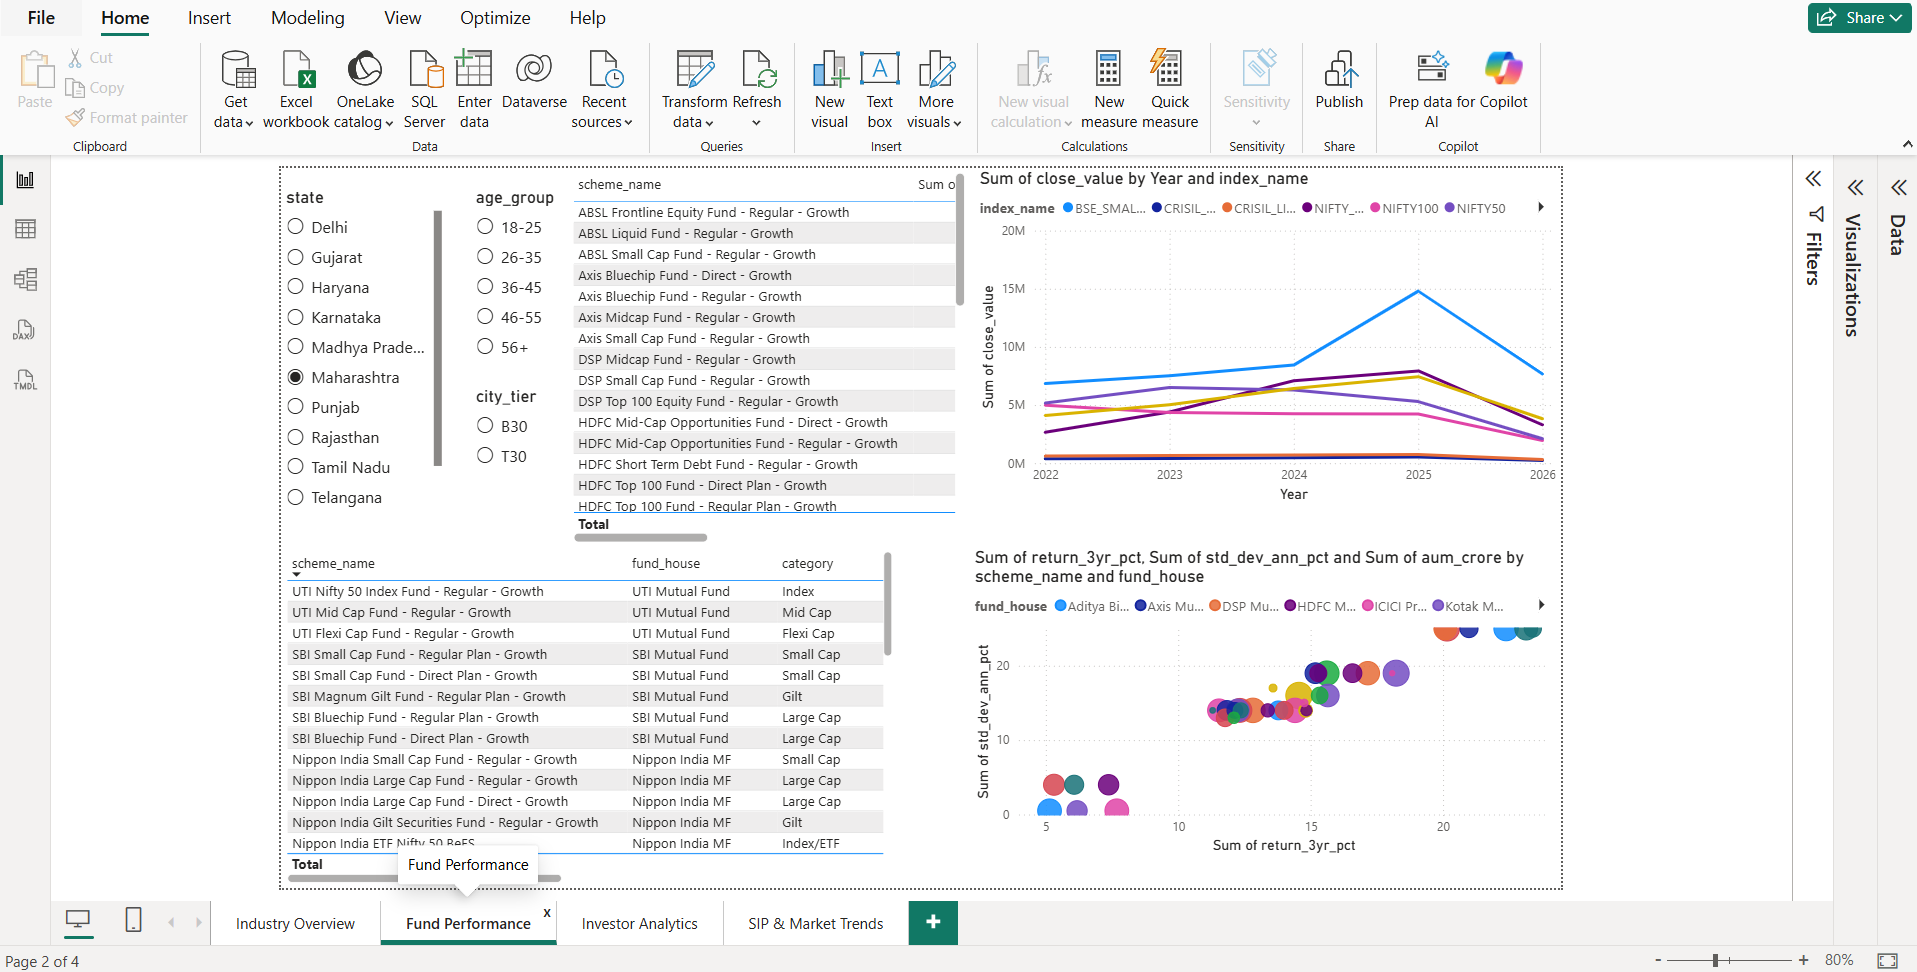

Layout of this report page (visuals, bound fields, positions):
{"tool":"powerbi","page":{"name":"Fund Performance","canvas":[1280,720],"ordinal":1},"visuals":[{"type":"scatterChart","fields":{"X":["Sum(07_scheme_performance.return_3yr_pct)"],"Y":["Sum(07_scheme_performance.std_dev_ann_pct)"],"Size":["Sum(07_scheme_performance.aum_crore)"],"Category":["07_scheme_performance.scheme_name"],"Series":["07_scheme_performance.fund_house"]},"box":[688.9,378.7,591.4,311.5],"z":0},{"type":"tableEx","fields":{"Values":["07_scheme_performance.scheme_name","07_scheme_performance.fund_house","07_scheme_performance.category","Sum(07_scheme_performance.return_3yr_pct)","Sum(07_scheme_performance.sharpe_ratio)","Sum(07_scheme_performance.alpha)","Sum(07_scheme_performance.max_drawdown_pct)","Sum(07_scheme_performance.expense_ratio_pct)"]},"box":[0,379.1,616.3,341.2],"z":1000},{"type":"lineChart","fields":{"Category":["10_benchmark_indices.date.Variation.Date Hierarchy.Year","10_benchmark_indices.date.Variation.Date Hierarchy.Quarter","10_benchmark_indices.date.Variation.Date Hierarchy.Month","10_benchmark_indices.date.Variation.Date Hierarchy.Day"],"Y":["Sum(10_benchmark_indices.close_value)"],"Series":["10_benchmark_indices.index_name"]},"box":[694.3,0,585.9,338.9],"z":2000},{"type":"tableEx","fields":{"Values":["07_scheme_performance.scheme_name","Sum(07_scheme_performance.return_3yr_pct)","Sum(07_scheme_performance.sharpe_ratio)","Sum(07_scheme_performance.alpha)","Sum(07_scheme_performance.max_drawdown_pct)","01_fund_master.fund_house","01_fund_master.category"]},"box":[286.1,0,402.3,379.1],"z":3000},{"type":"listSlicer","fields":{"Values":["08_investor_transactions.state"]},"box":[0,18.3,166.3,332.6],"z":4000},{"type":"listSlicer","fields":{"Values":["08_investor_transactions.age_group"]},"box":[189.5,18.3,96.6,199.3],"z":5000},{"type":"listSlicer","fields":{"Values":["08_investor_transactions.city_tier"]},"box":[189.5,217.7,96.6,133.3],"z":6000}]}

Visuals, with their boxes on the page's 1280x720 design canvas (x1, y1, x2, y2). These are canvas units, not pixel positions in the 1917x972 screenshot, which may show the page scaled, cropped or inside an application window:
scatterChart - Sum(07_scheme_performance.return_3yr_pct) x Sum(07_scheme_performance.std_dev_ann_pct): [689,379,1280,690]
tableEx - 07_scheme_performance.scheme_name x 07_scheme_performance.fund_house: [0,379,616,720]
lineChart - 10_benchmark_indices.date.Variation.Date Hierarchy.Year x 10_benchmark_indices.date.Variation.Date Hierarchy.Quarter: [694,0,1280,339]
tableEx - 07_scheme_performance.scheme_name x Sum(07_scheme_performance.return_3yr_pct): [286,0,688,379]
listSlicer - 08_investor_transactions.state: [0,18,166,351]
listSlicer - 08_investor_transactions.age_group: [190,18,286,218]
listSlicer - 08_investor_transactions.city_tier: [190,218,286,351]
